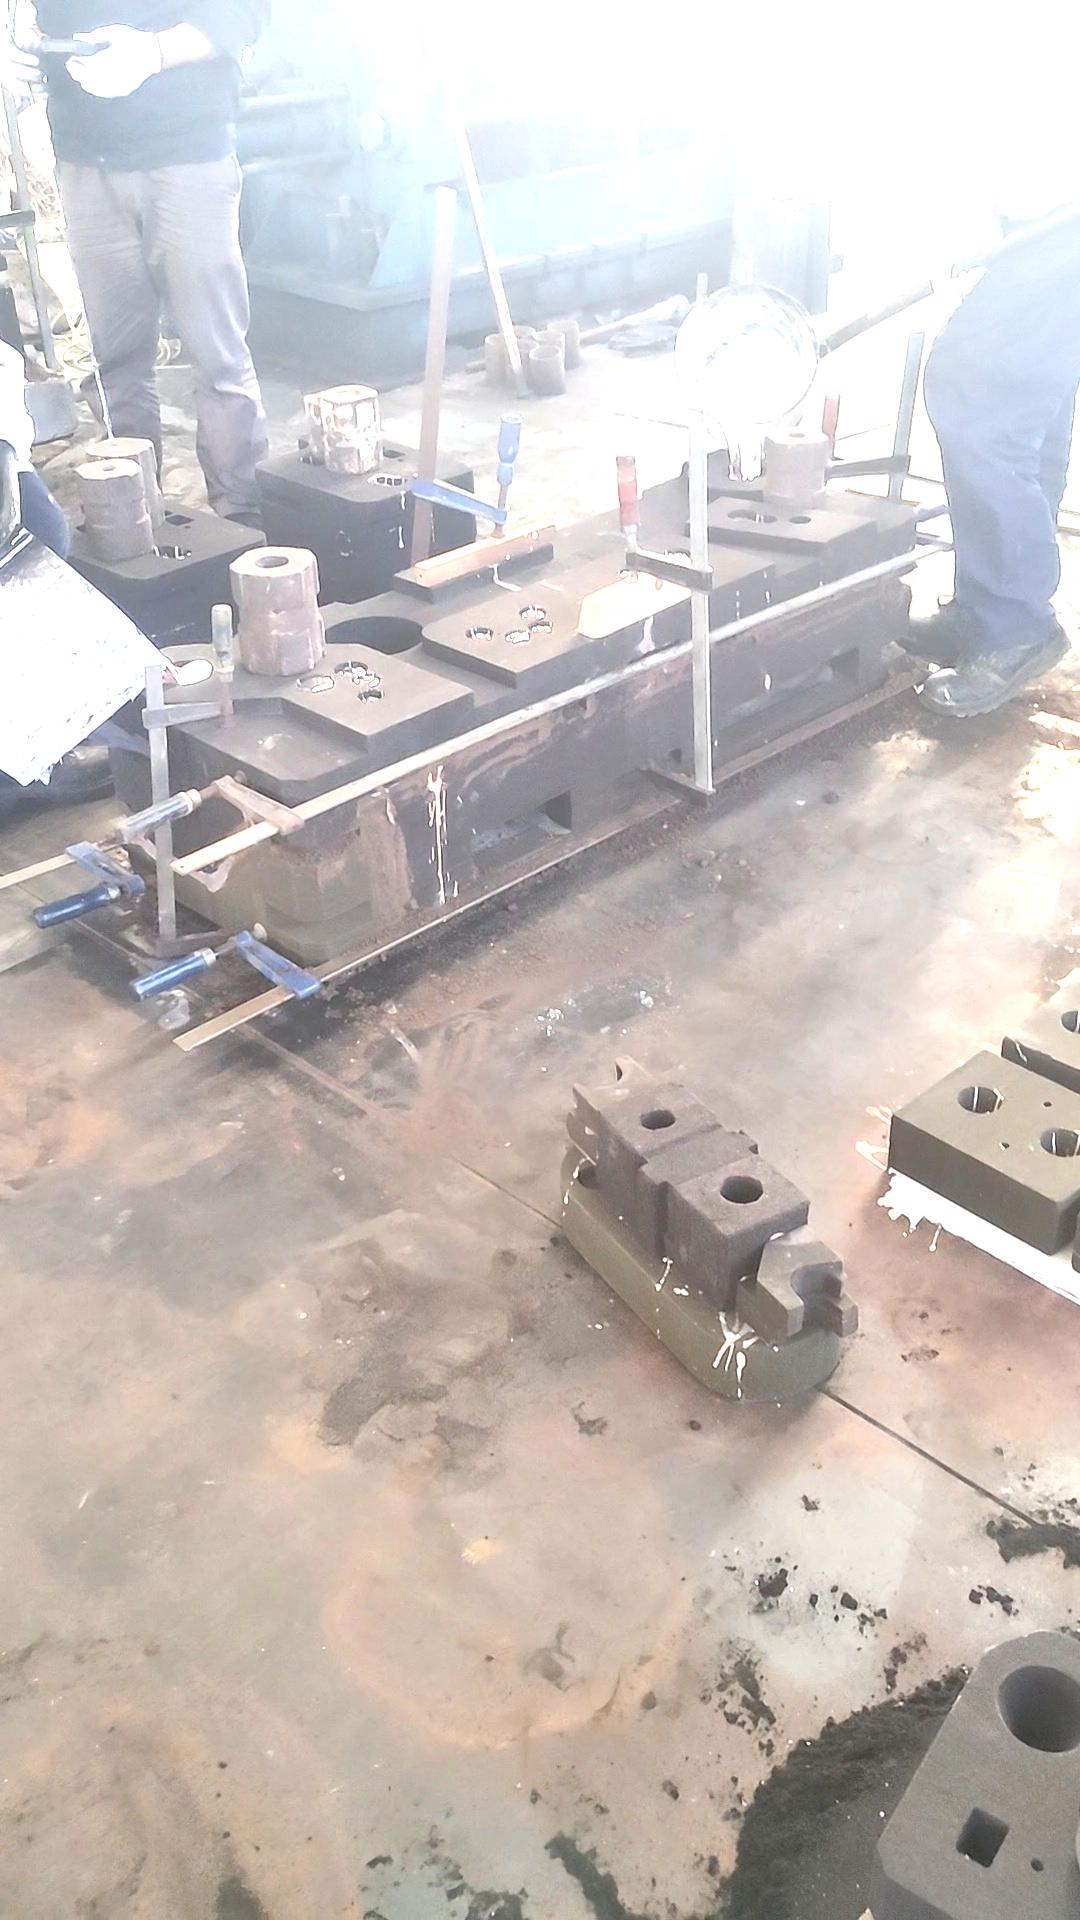pouring hole: (998, 1663, 1080, 1753), (164, 658, 215, 684), (957, 1085, 1002, 1114), (1040, 1125, 1080, 1156), (727, 462, 767, 481), (98, 480, 136, 497), (324, 421, 364, 436), (527, 345, 560, 361), (1062, 1007, 1080, 1035), (502, 326, 535, 338), (485, 332, 514, 345), (534, 330, 566, 340), (512, 340, 539, 352), (546, 319, 578, 328)
